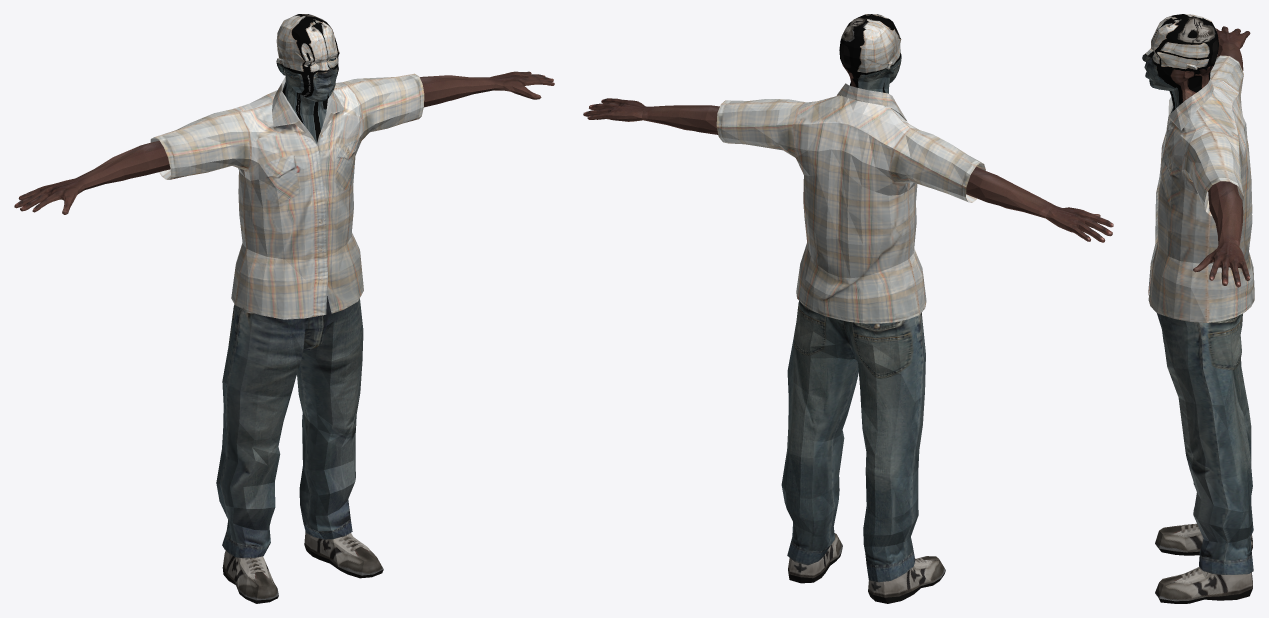
Rendered from Prueba.DAE.
3 views of the same model, side by side, from view 1: azimuth 30°, elevation 25°; view 2: azimuth 150°, elevation 25°; view 3: azimuth 270°, elevation 25° (orthographic).
Parts seen in each view (by area): view 1: CMan0024-Mesh; view 2: CMan0024-Mesh; view 3: CMan0024-Mesh.
Boxes of the visible parts, x1,y1,x2,y2 form: CMan0024-Mesh: (14,14,554,603); CMan0024-Mesh: (583,14,1113,603); CMan0024-Mesh: (1142,14,1254,603).
Bounding box in the file's own units: 1.76 × 0.3242 × 1.77.
Materials: 1 (1 with a texture image).
